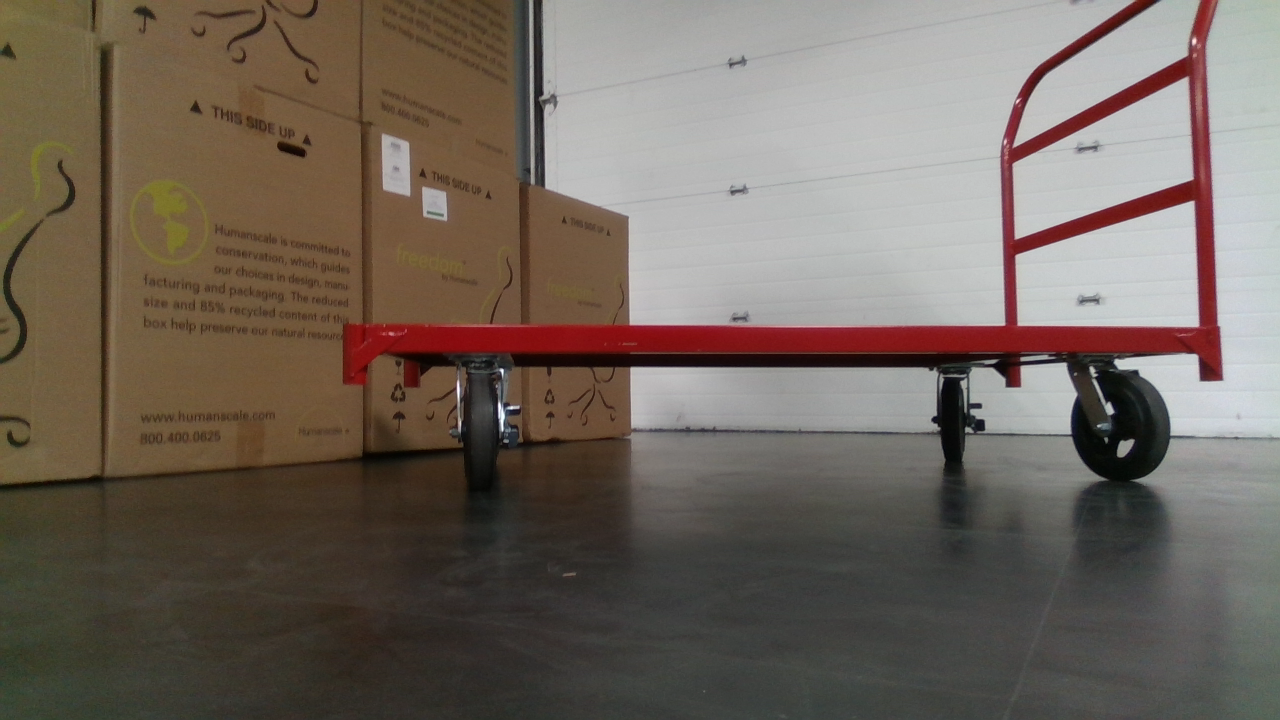Dolly: (338, 1, 1225, 487)
Wheel: (1069, 367, 1169, 484), (461, 379, 504, 486), (936, 377, 968, 466)
